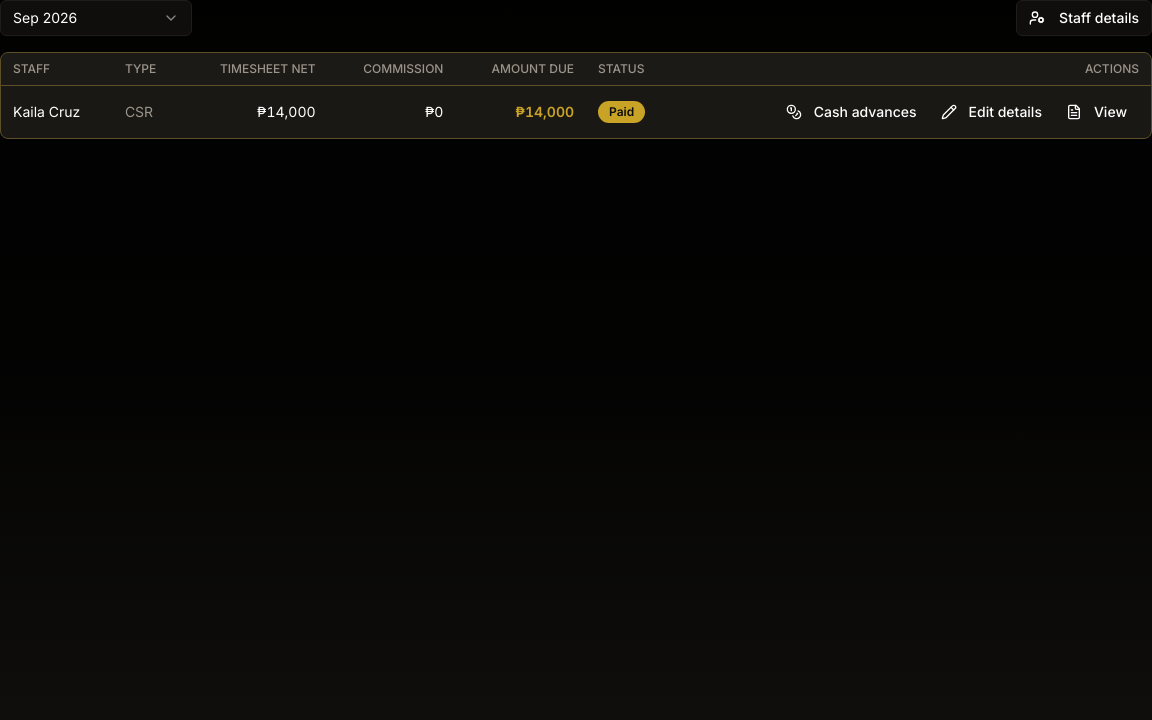
Test: Paid payslip — adding the 2nd file later › two proofs: both open and download, no Add 2nd proof
The image size is (1152, 720).
Click the button "View".
click(1096, 112)  # box [1054,94,1139,130]
(page scrolled)
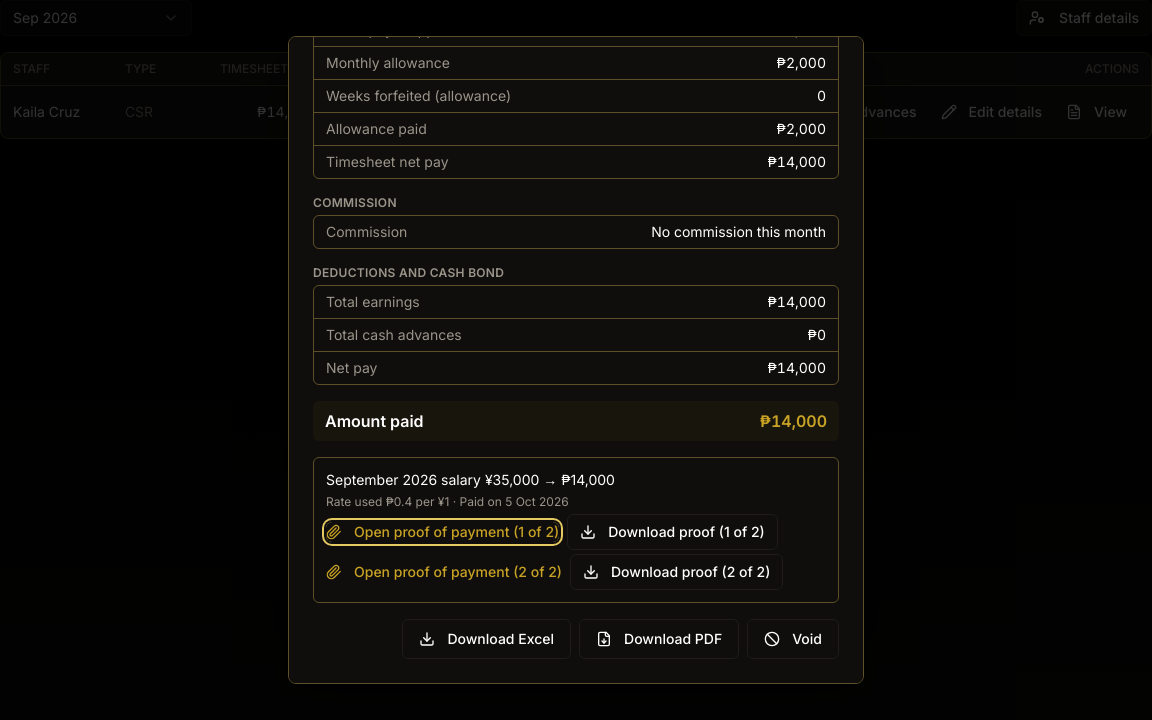
Now the number of elements with test id "payslip-proof" is 2, box [326,514,826,550]; [326,554,826,590]
Now the button "Open proof of payment (2 of 2)" is shown, box [326,562,562,582]
Now the button "Download proof (1 of 2)" is shown, box [567,514,778,550]
